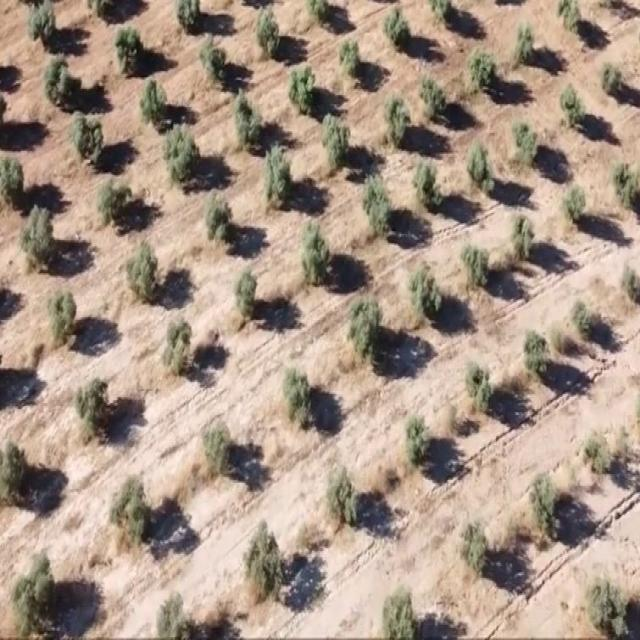trees: (570, 555, 638, 640), (4, 546, 58, 640), (237, 515, 289, 610), (106, 472, 156, 562), (524, 455, 574, 545), (321, 457, 368, 546), (118, 232, 170, 308), (14, 200, 62, 274), (162, 120, 208, 195), (371, 575, 425, 638), (343, 291, 387, 368), (454, 510, 496, 586), (196, 412, 237, 488), (294, 211, 333, 289), (275, 360, 317, 432), (89, 172, 137, 234), (356, 172, 396, 245), (160, 316, 204, 382), (68, 372, 114, 434), (199, 186, 242, 252), (226, 89, 268, 156), (408, 256, 447, 328), (261, 139, 299, 211), (66, 112, 110, 174), (44, 288, 85, 353), (42, 52, 85, 112), (462, 352, 501, 418), (458, 235, 496, 301), (318, 111, 356, 176), (400, 407, 435, 477), (250, 5, 290, 66), (378, 87, 414, 153), (283, 60, 321, 122), (226, 267, 262, 332), (522, 320, 558, 384), (0, 435, 30, 508), (410, 156, 444, 220), (505, 207, 540, 269), (196, 31, 234, 88), (114, 24, 150, 84), (464, 140, 497, 203), (568, 292, 602, 353), (464, 46, 500, 102), (612, 153, 640, 225), (416, 71, 450, 128), (136, 76, 170, 132), (378, 4, 415, 55), (0, 148, 28, 210), (509, 118, 542, 170), (25, 0, 58, 51), (558, 82, 588, 134), (337, 34, 368, 84), (560, 181, 591, 229), (168, 0, 208, 35), (597, 58, 628, 101), (512, 18, 538, 66), (554, 0, 584, 33)
